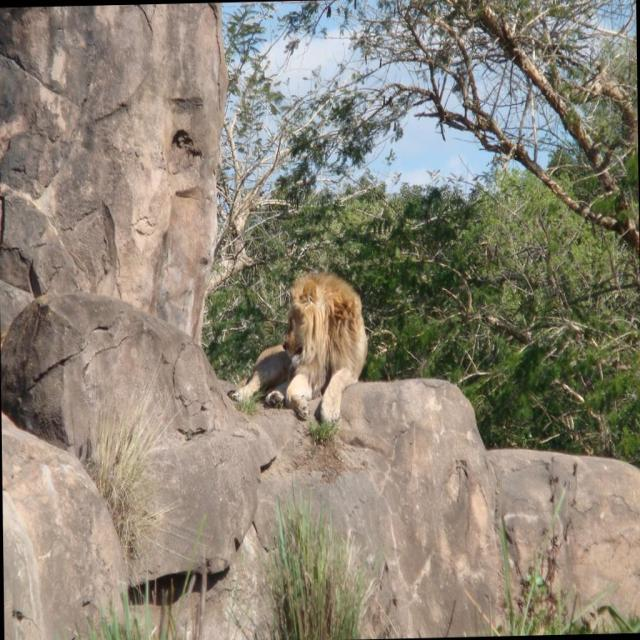Lion: (230, 269, 370, 431)
